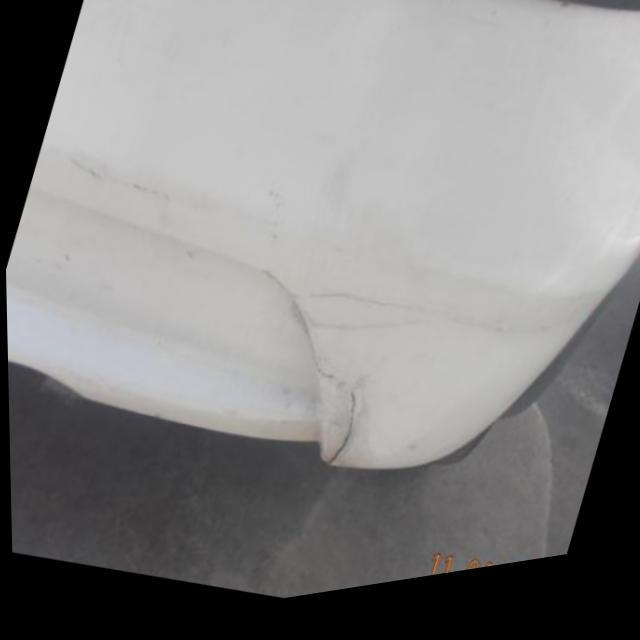crack: (316, 401, 358, 477)
